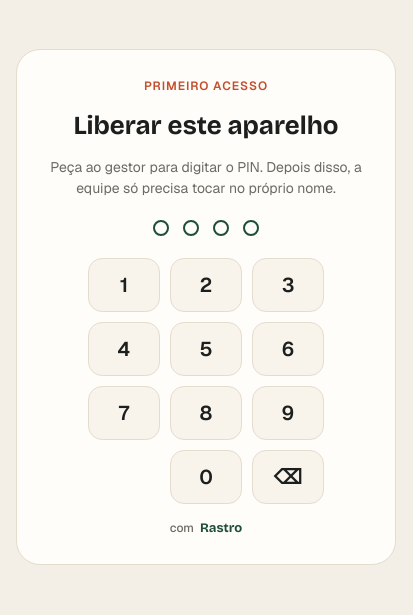
Test: US01 — DeviceGate › bloqueio por tentativas mostra a mensagem de espera (borda)
This screenshot has width=413, height=615.
Expected: the heading "Liberar este aparelho" is shown, [73,110,338,141]
Step 1. Click the button "1" → (124, 285), box [88,258,160,312]
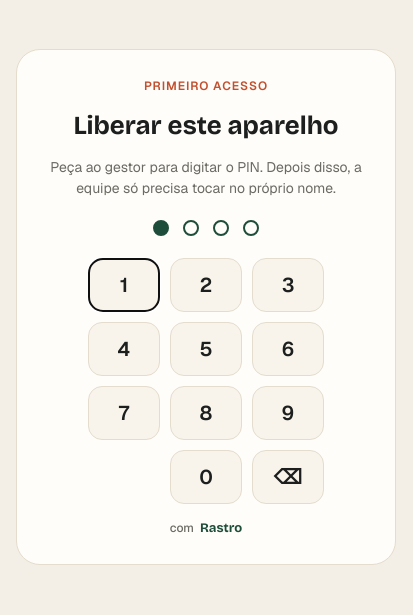
Step 2. Click the button "2" → (206, 285), box [170,258,242,312]
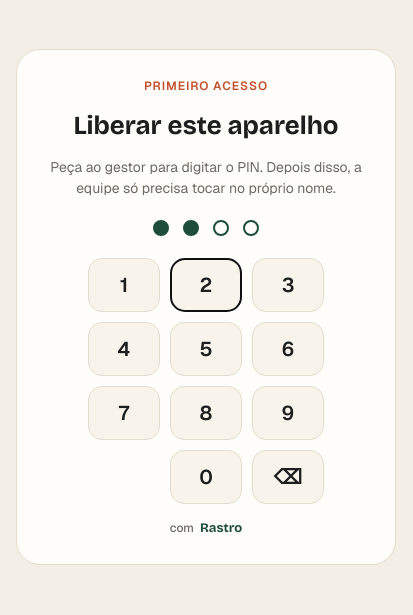
Step 3. Click the button "3" → (288, 285), box [252,258,324,312]
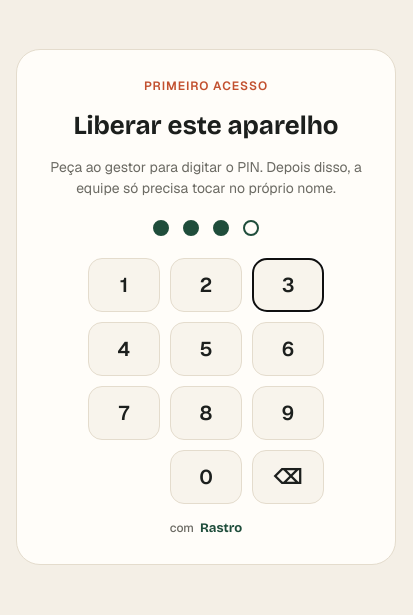
Step 4. Click the button "4" → (124, 349), box [88,322,160,376]
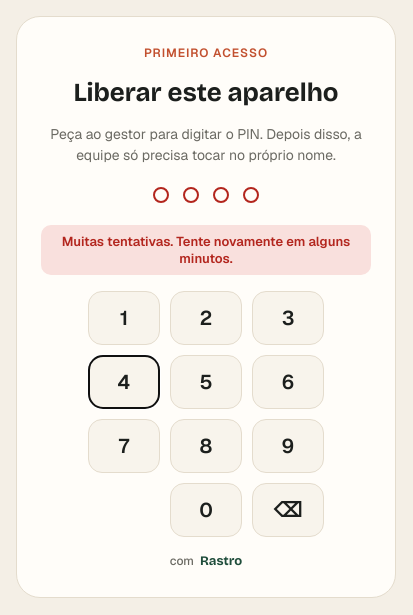
Expected: the message shows "Muitas tentativas", [62,233,350,267]
